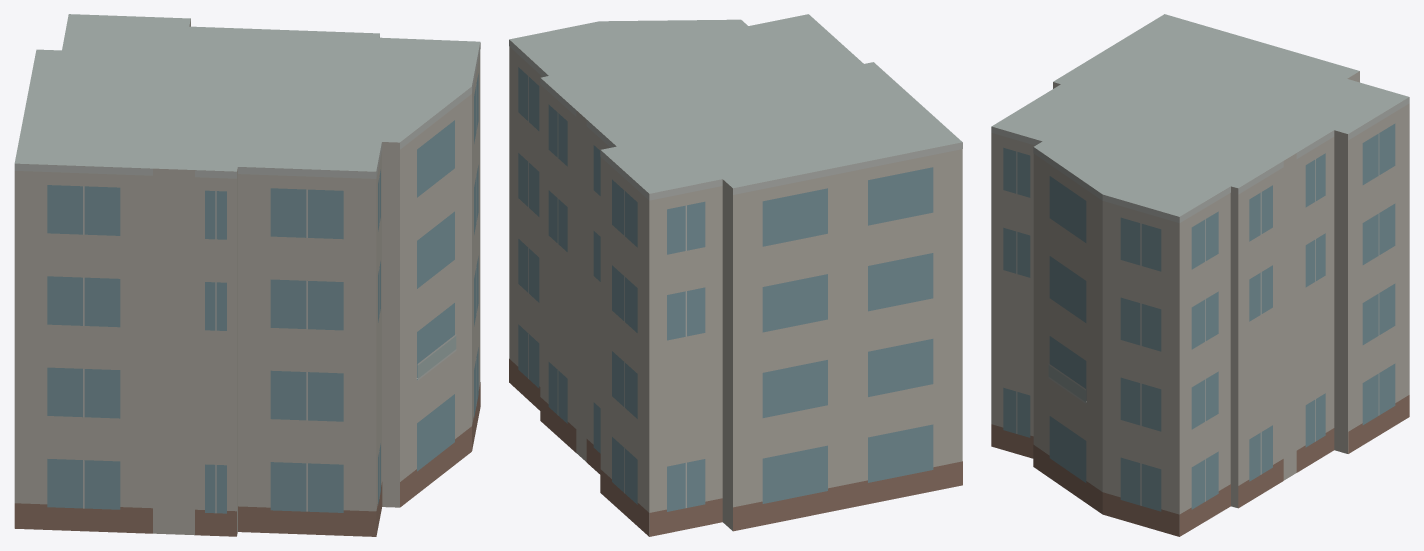
The model's file is survey-upis-33038502.glb.
3 views of the same model, side by side, from view 1: azimuth 30°, elevation 25°; view 2: azimuth 150°, elevation 25°; view 3: azimuth 270°, elevation 25° (orthographic). The views are drawn at different scales.
Visible parts, largest first — view 1: survey-upis-33038502.tmp; view 2: survey-upis-33038502.tmp; view 3: survey-upis-33038502.tmp.
Boxes of the visible parts, x1,y1,x2,y2 form: survey-upis-33038502.tmp: [14, 14, 480, 536]; survey-upis-33038502.tmp: [509, 14, 962, 536]; survey-upis-33038502.tmp: [991, 14, 1409, 536].
Bounding box in the file's own units: 16.73 × 12.3 × 14.57.
